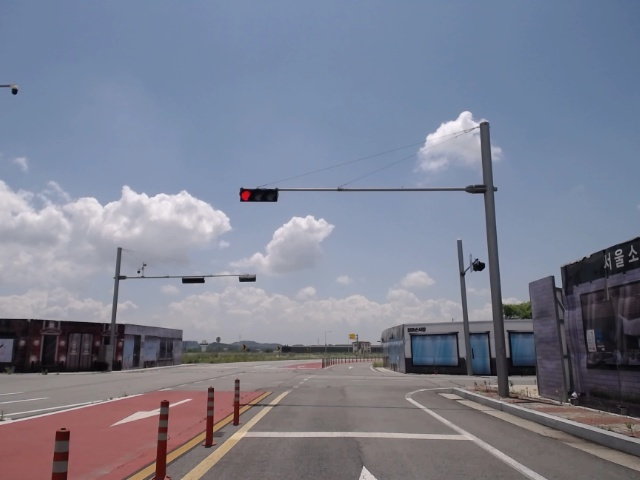red_3: (239, 187, 279, 202)
